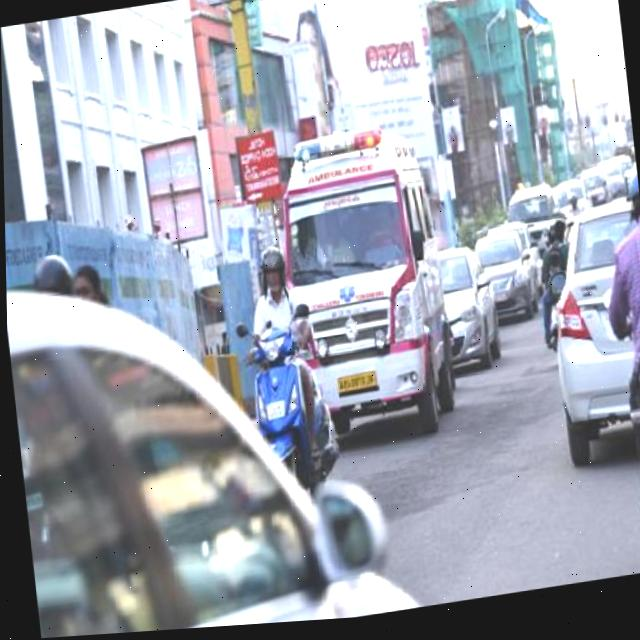emergency: (268, 120, 461, 457)
